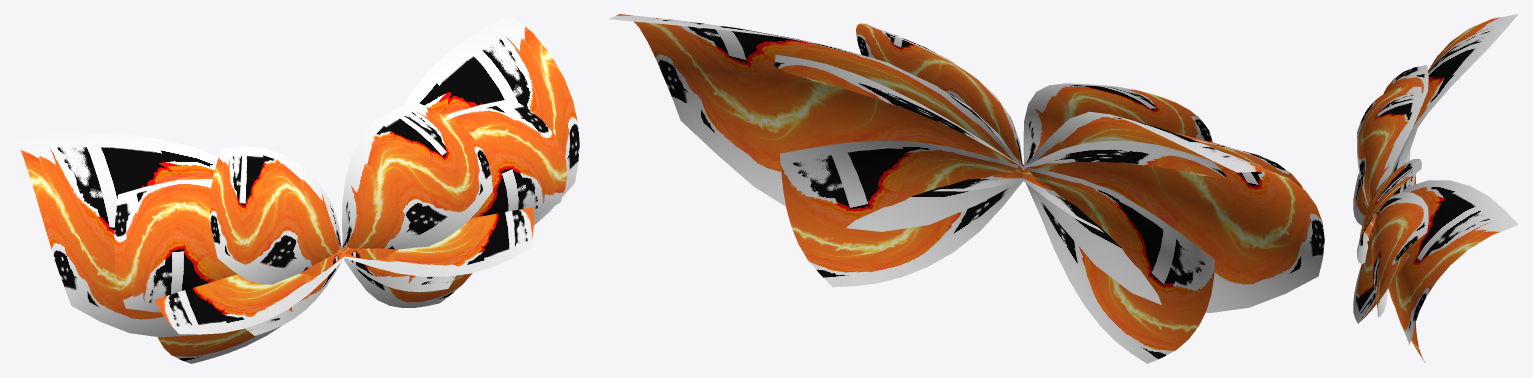
The model's file is fx_wing_c.FBX.
The picture shows the model from 3 angles, left to right: view 1: azimuth 30°, elevation 25°; view 2: azimuth 150°, elevation 25°; view 3: azimuth 270°, elevation 25°; orthographic projection. The views are drawn at different scales.
Visible parts, largest first — view 1: Plane02, Plane01; view 2: Plane01, Plane02; view 3: Plane01, Plane02.
Part boxes in pixels (<box>): Plane02: <box>14,133,344,363</box>; Plane01: <box>342,14,579,307</box>; Plane01: <box>608,14,1023,287</box>; Plane02: <box>1022,83,1324,363</box>; Plane01: <box>1353,159,1518,363</box>; Plane02: <box>1353,14,1518,225</box>.
Size of the model in its own units: 1828 by 729 by 571.
